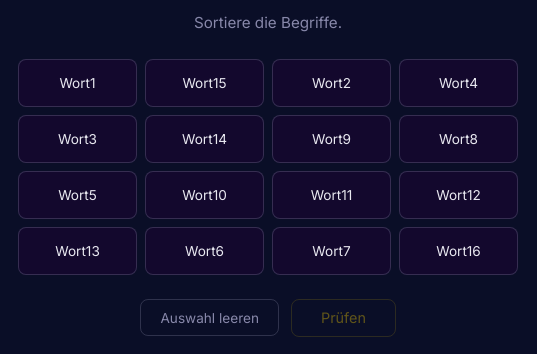
Test: Connections › allows selecting up to 4 words
Click the button "Wort1" at (78, 83), box top-left (18, 59), bottom-right (137, 107)
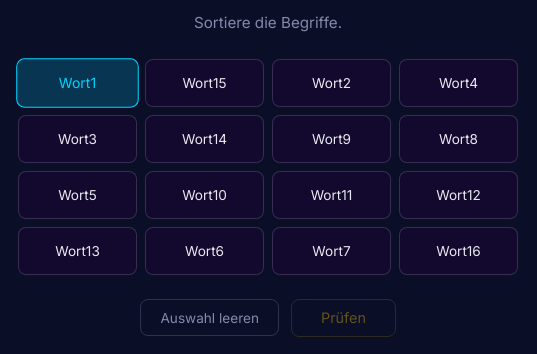
Click the button "Wort2" at (332, 83), box top-left (272, 59), bottom-right (391, 107)
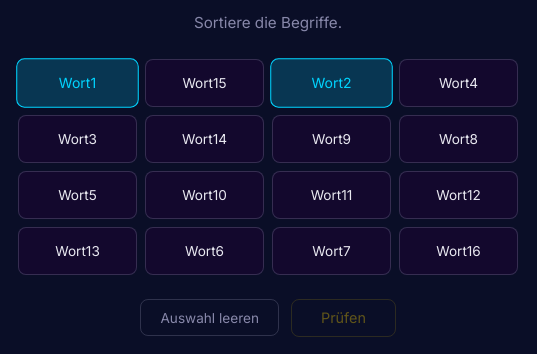
Click the button "Wort3" at (78, 139), box top-left (18, 115), bottom-right (137, 163)
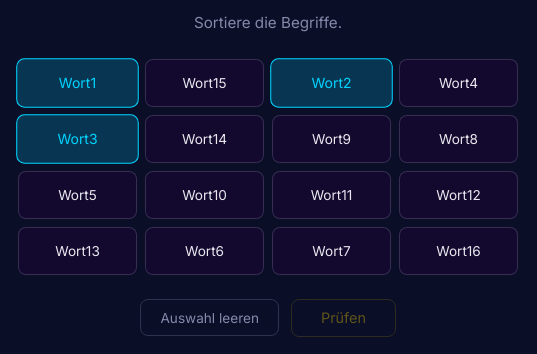
Click the button "Wort4" at (458, 83), box top-left (399, 59), bottom-right (518, 107)
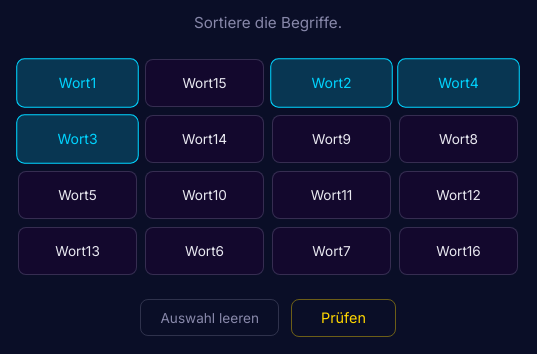
Check: the button "Prüfen" is enabled, box top-left (291, 299), bottom-right (396, 337)
